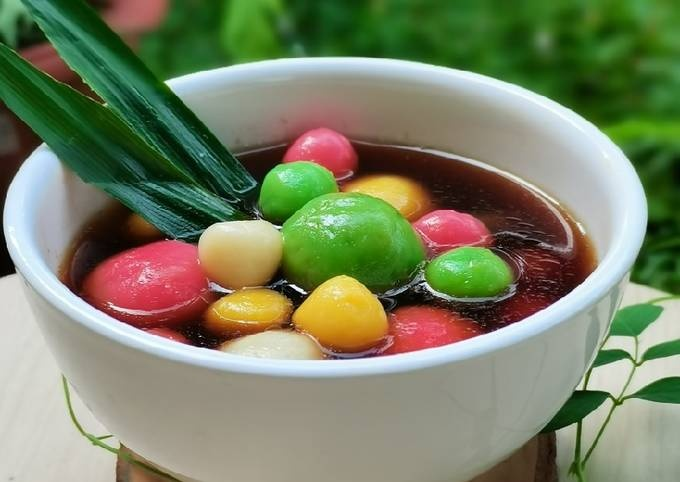ronde: (54, 127, 602, 360)
